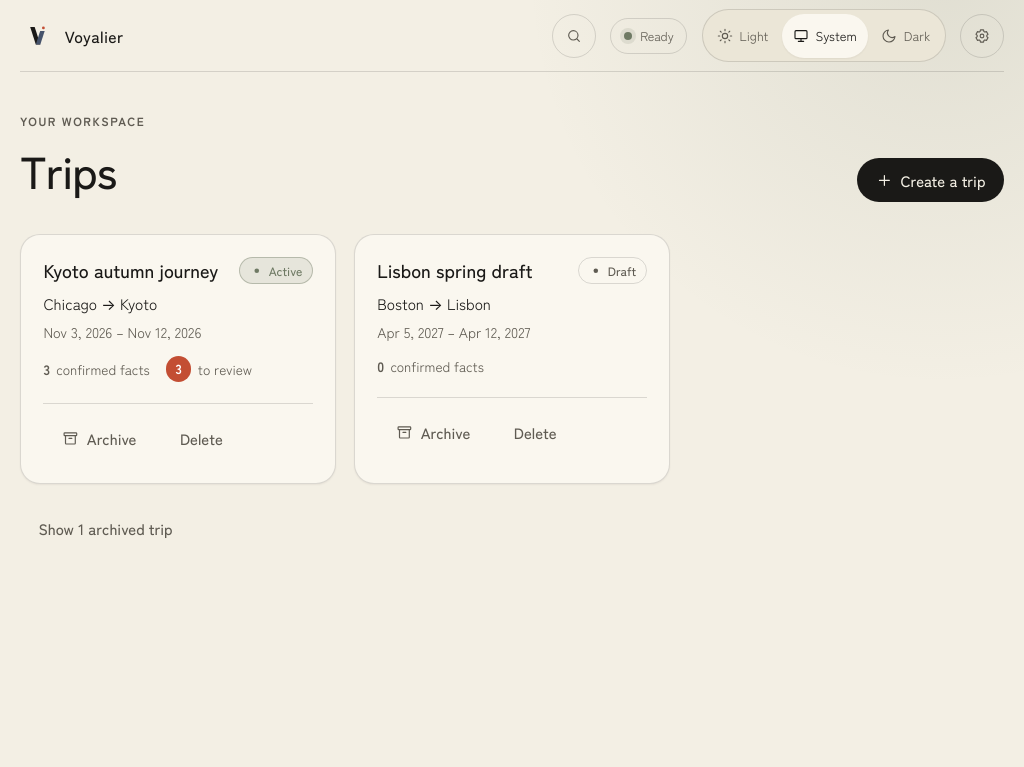
Test: weather outlook › fetches an outlook on click and renders days with attribution
Click the button with aria-label "Open Kyoto autumn journey".
click(131, 270)  # box [43,257,218,283]
(page scrolled)
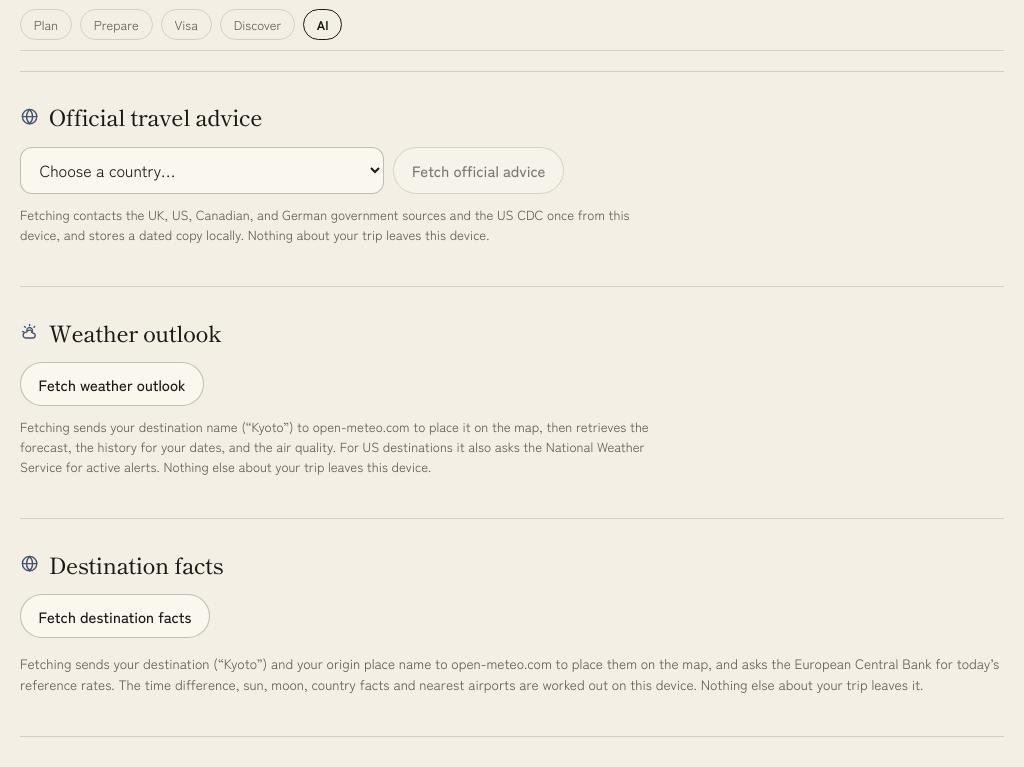
Now the text "open-meteo.com" is shown, box [20,417,649,476]
Click the button "Fetch weather outlook".
click(112, 384)  # box [20,362,204,406]
(page scrolled)
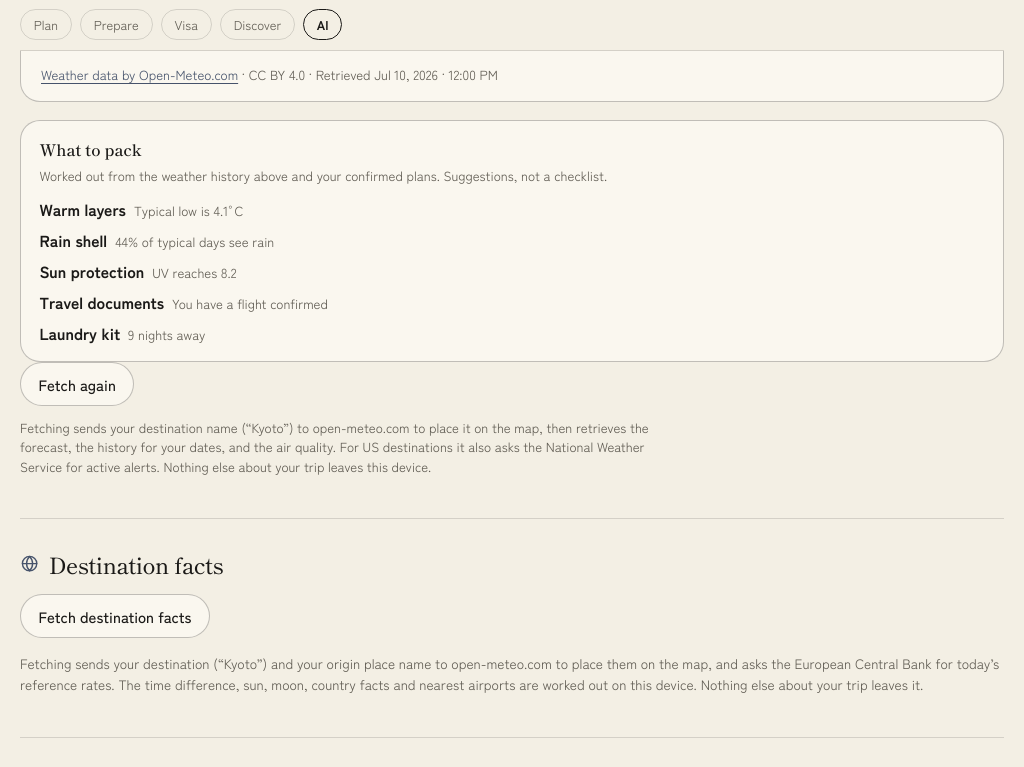
Expected: the text "only the first part of your trip is covered" is shown, [41,29,854,49]
Now the text "CC BY 4.0" is shown, box [249,65,305,84]
Now the button "Fetch again" is shown, box [20,362,134,406]
